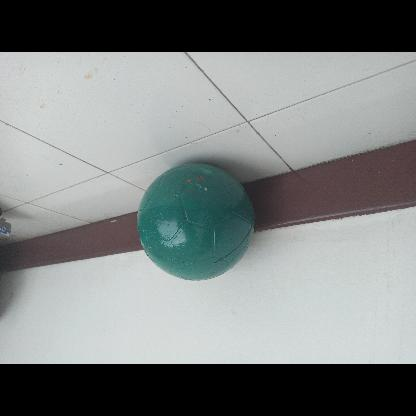green_ball: (138, 164, 258, 284)
